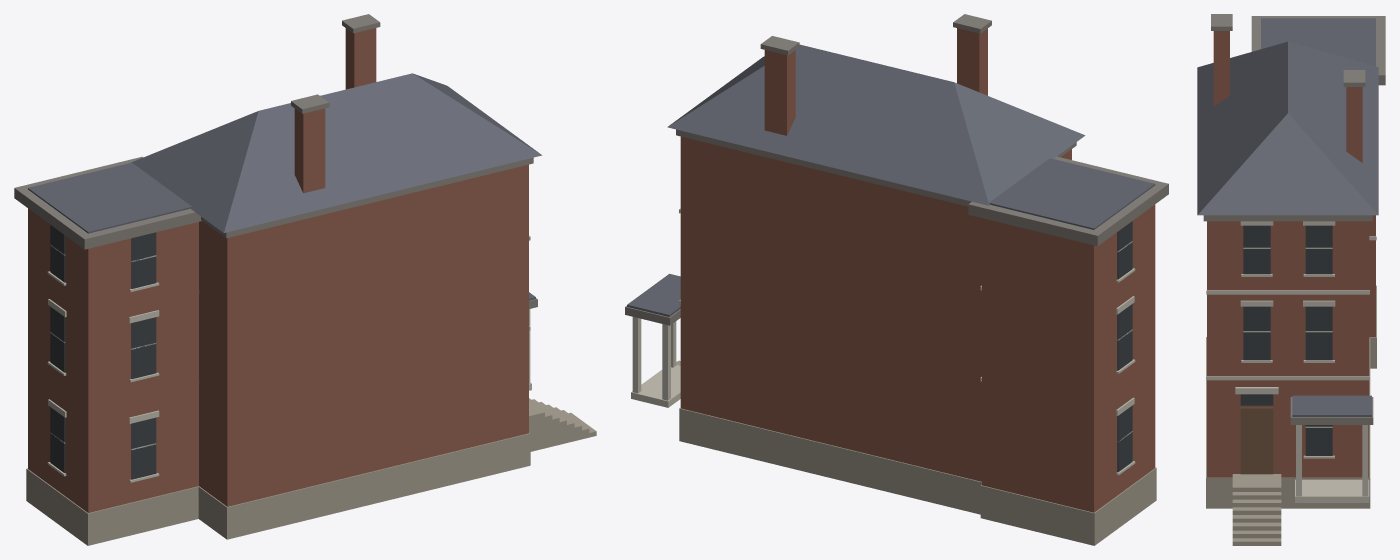
File: house_1628_prairie__draft_1904.glb
The picture shows the model from 3 angles, left to right: view 1: azimuth 30°, elevation 25°; view 2: azimuth 150°, elevation 25°; view 3: azimuth 270°, elevation 25°; orthographic projection. The views are drawn at different scales.
Visible parts, largest first — view 1: house_1628_prairie__draft_1904; view 2: house_1628_prairie__draft_1904; view 3: house_1628_prairie__draft_1904.
Boxes of the visible parts, bbox=[...] form: house_1628_prairie__draft_1904: bbox=[14, 14, 596, 545]; house_1628_prairie__draft_1904: bbox=[625, 14, 1168, 545]; house_1628_prairie__draft_1904: bbox=[1197, 14, 1385, 545].
Size of the model in its own units: 20.4 by 15.9 by 6.95.
